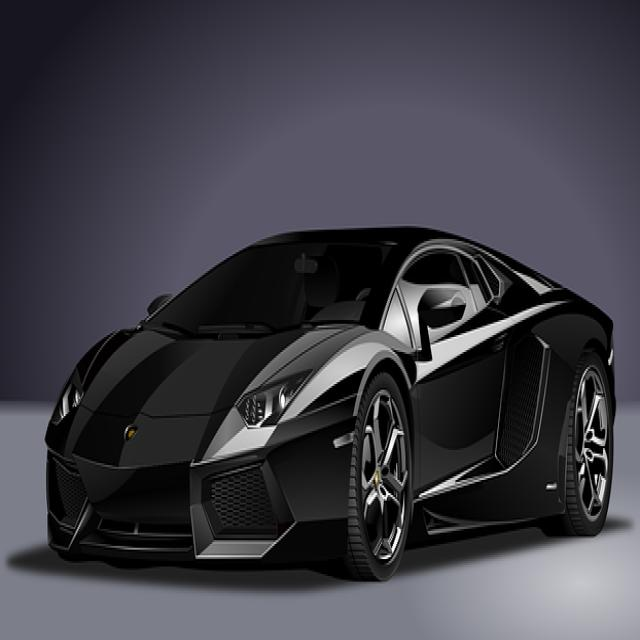Car: (44, 222, 616, 582)
